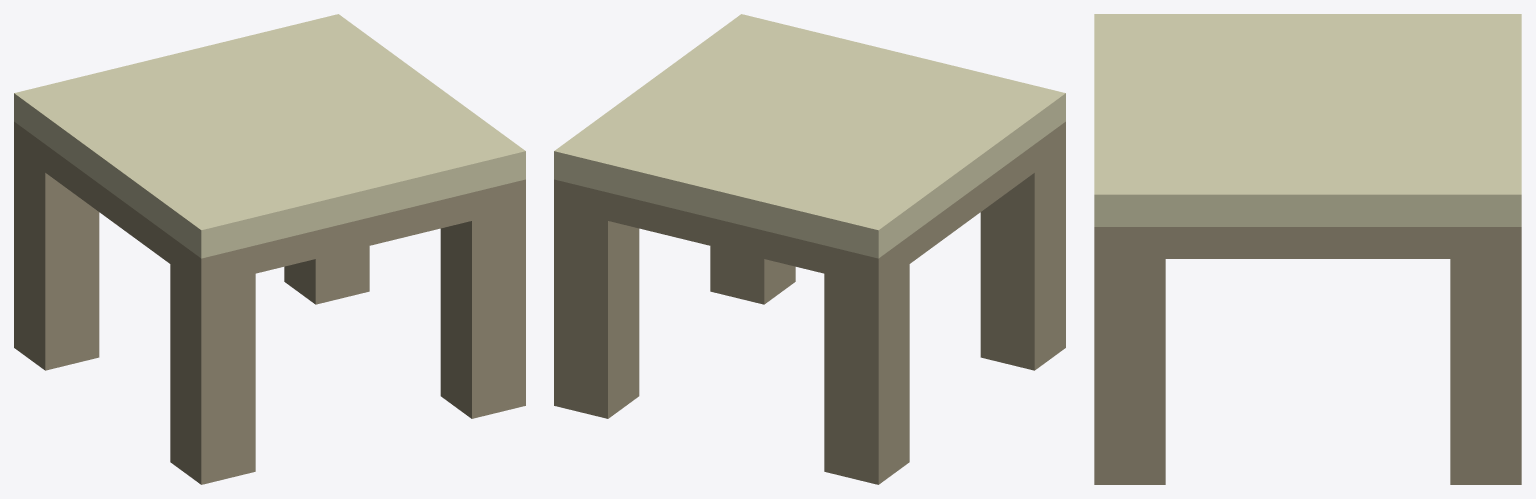
Rendered from mesa_cartografia_pino_01.glb.
3 renders of one model, left to right at view 1: azimuth 30°, elevation 25°; view 2: azimuth 150°, elevation 25°; view 3: azimuth 270°, elevation 25°, orthographic. The views are drawn at different scales.
Parts seen in each view (by area): view 1: mesa_cartografia_pino; view 2: mesa_cartografia_pino; view 3: mesa_cartografia_pino.
Boxes of the visible parts, x1,y1,x2,y2 form: mesa_cartografia_pino: (14, 14, 525, 484); mesa_cartografia_pino: (554, 14, 1065, 484); mesa_cartografia_pino: (1094, 14, 1521, 484).
Size of the model in its own units: 1 by 0.75 by 1.
